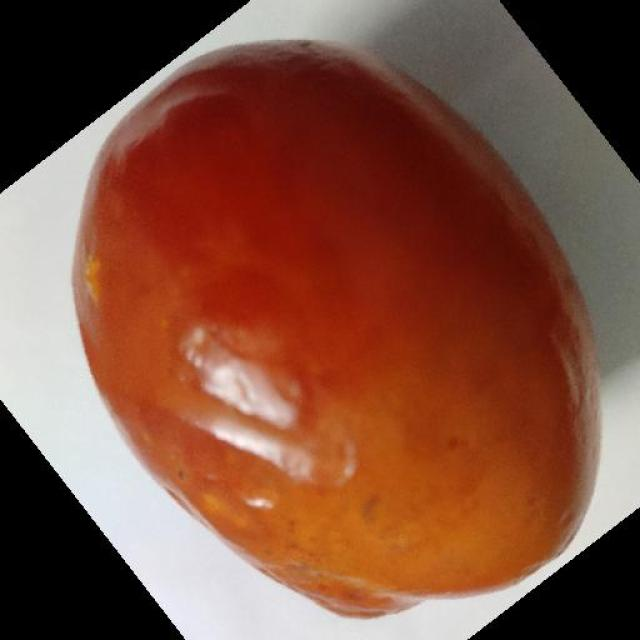Stale_tomato: (40, 23, 640, 615)
